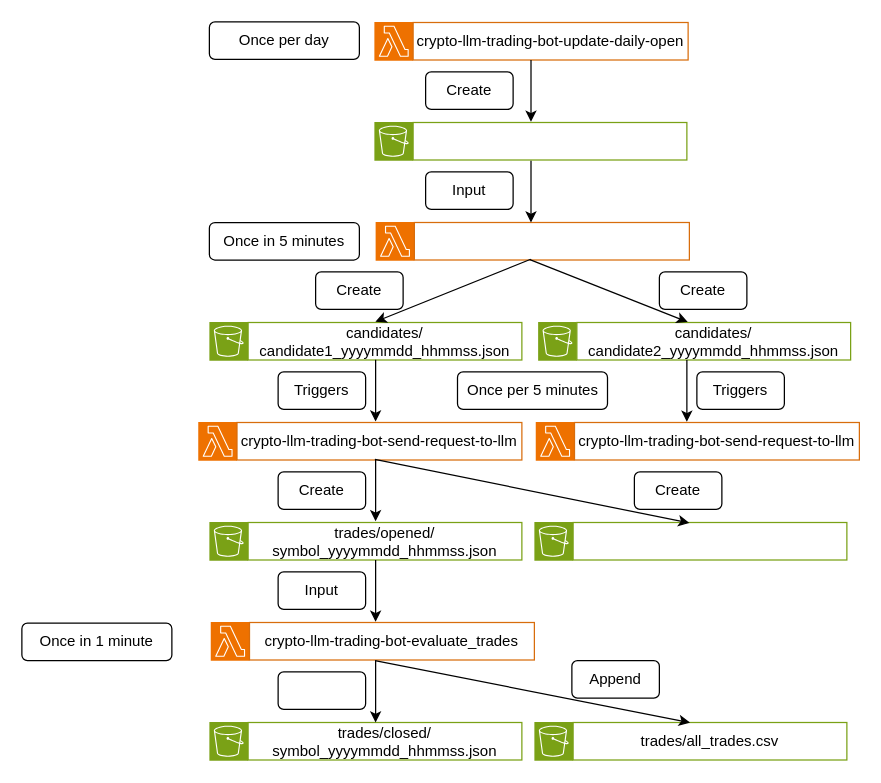
Image size: 881x783. Some labels were removed from this diagram. The box of each missing label's shape, as (x1, y1, x2, y2) in pixels:
crypto-llm-trading-bot-candidates-update: (413, 221, 689, 260)
daily_open/yyyy-mm-dd.json: (412, 121, 687, 160)
decisions/ symbol_yyyymmdd_hhmmss.json: (572, 521, 847, 560)
Move: (277, 671, 366, 709)
